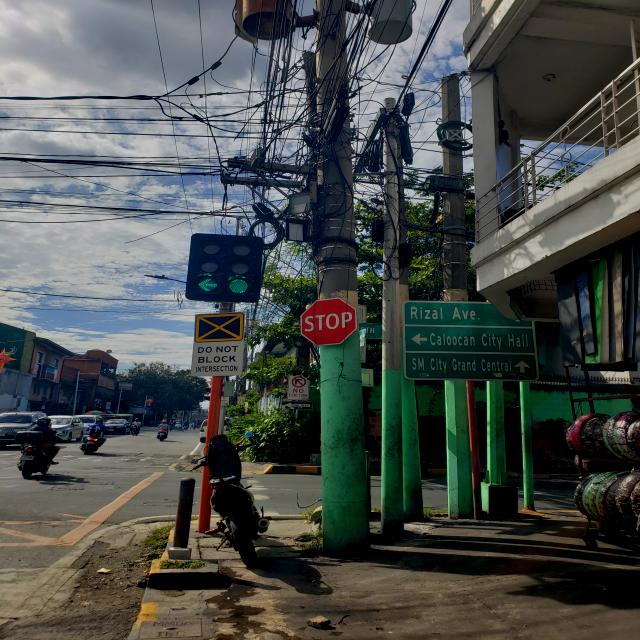stop-sign: (300, 297, 358, 346)
